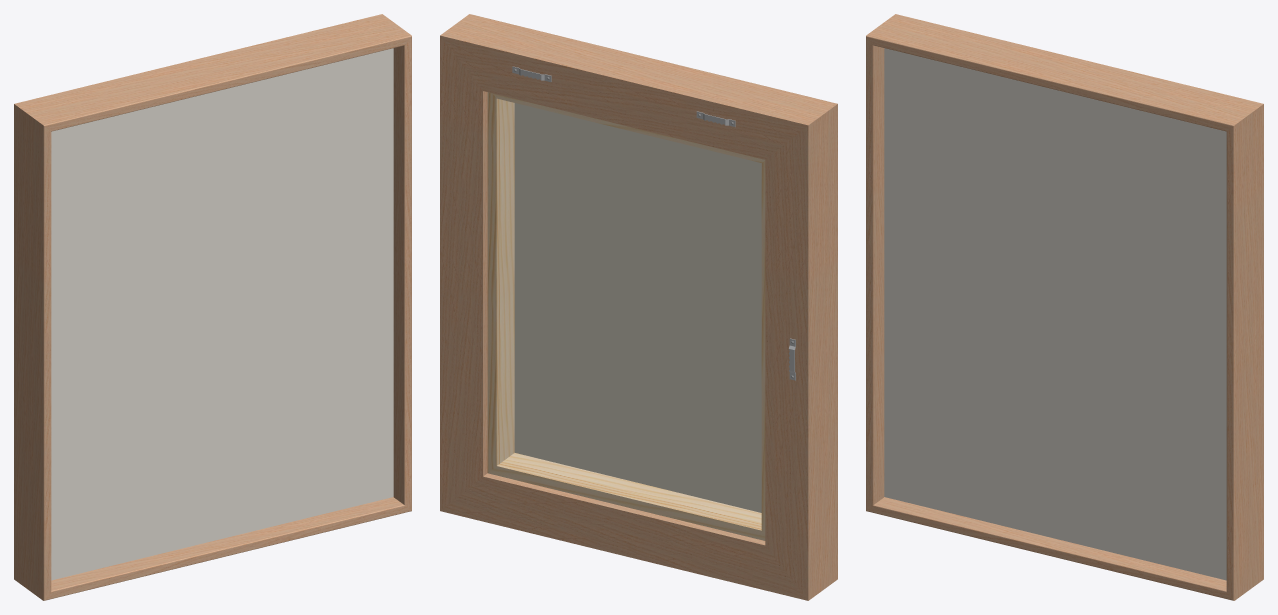
Rendered from delivery.glb.
3 views of the same model, side by side, from view 1: azimuth 30°, elevation 25°; view 2: azimuth 150°, elevation 25°; view 3: azimuth 330°, elevation 25° (orthographic).
Parts seen in each view (by area): view 1: Canvas artwork front, Tray approved profile 0; view 2: Tray approved profile 0, Canvas linen reverse, Stretcher top, Sawtooth hanger 0; view 3: Canvas artwork front, Tray approved profile 0.
Part boxes in pixels (x1,y1,x2,y2): Canvas artwork front: (51,48,393,580); Tray approved profile 0: (14,14,411,600); Tray approved profile 0: (440,14,837,600); Canvas linen reverse: (514,103,761,512); Stretcher top: (487,92,765,540); Sawtooth hanger 0: (512,66,795,380); Canvas artwork front: (884,48,1226,580); Tray approved profile 0: (866,14,1263,600).
Bounding box in the file's own units: 0.428 × 0.528 × 0.0624.
Materials: 7 (3 with a texture image).
